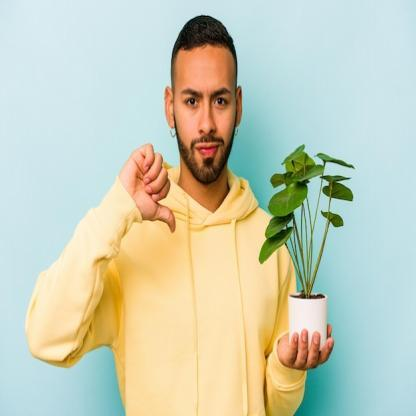thumb_down: (121, 138, 178, 238)
